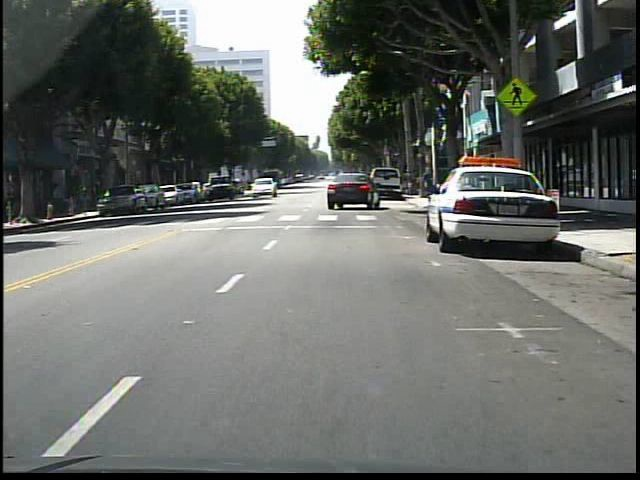person: (421, 164, 443, 206)
